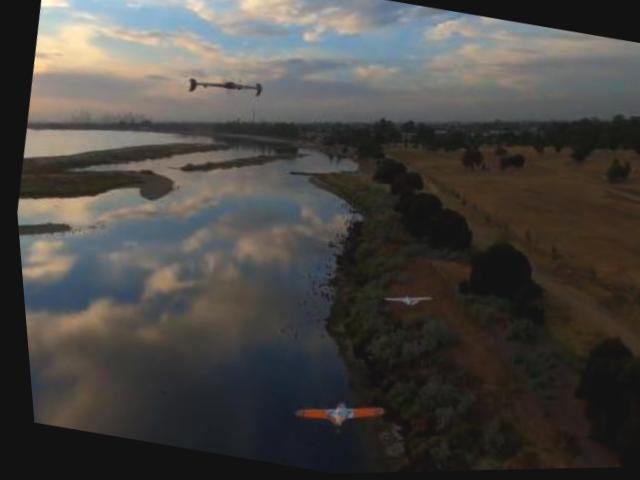uav: (277, 383, 383, 443), (181, 67, 265, 109), (374, 286, 427, 318)
